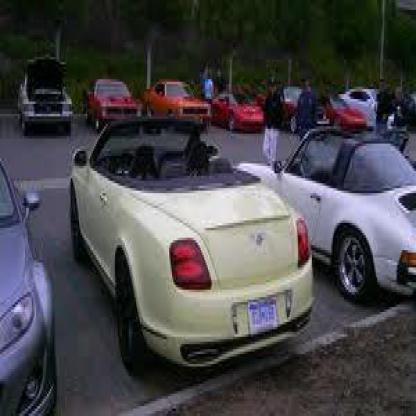Vehicle: (69, 109, 319, 386)
